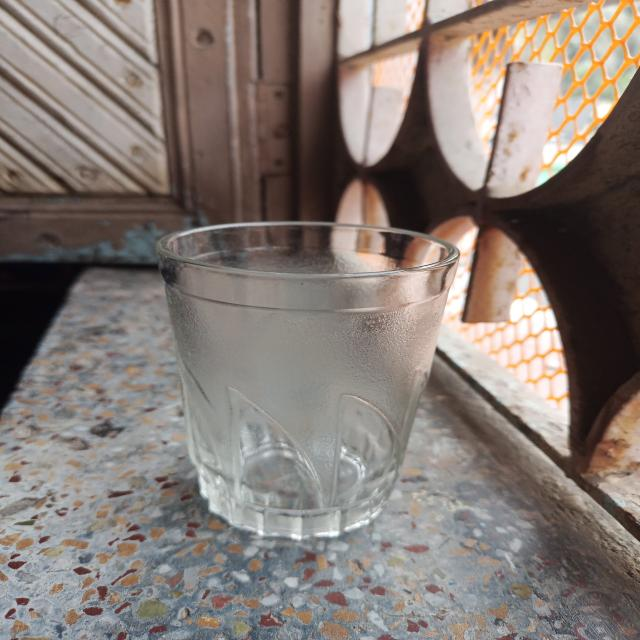Glass: (150, 215, 464, 544)
